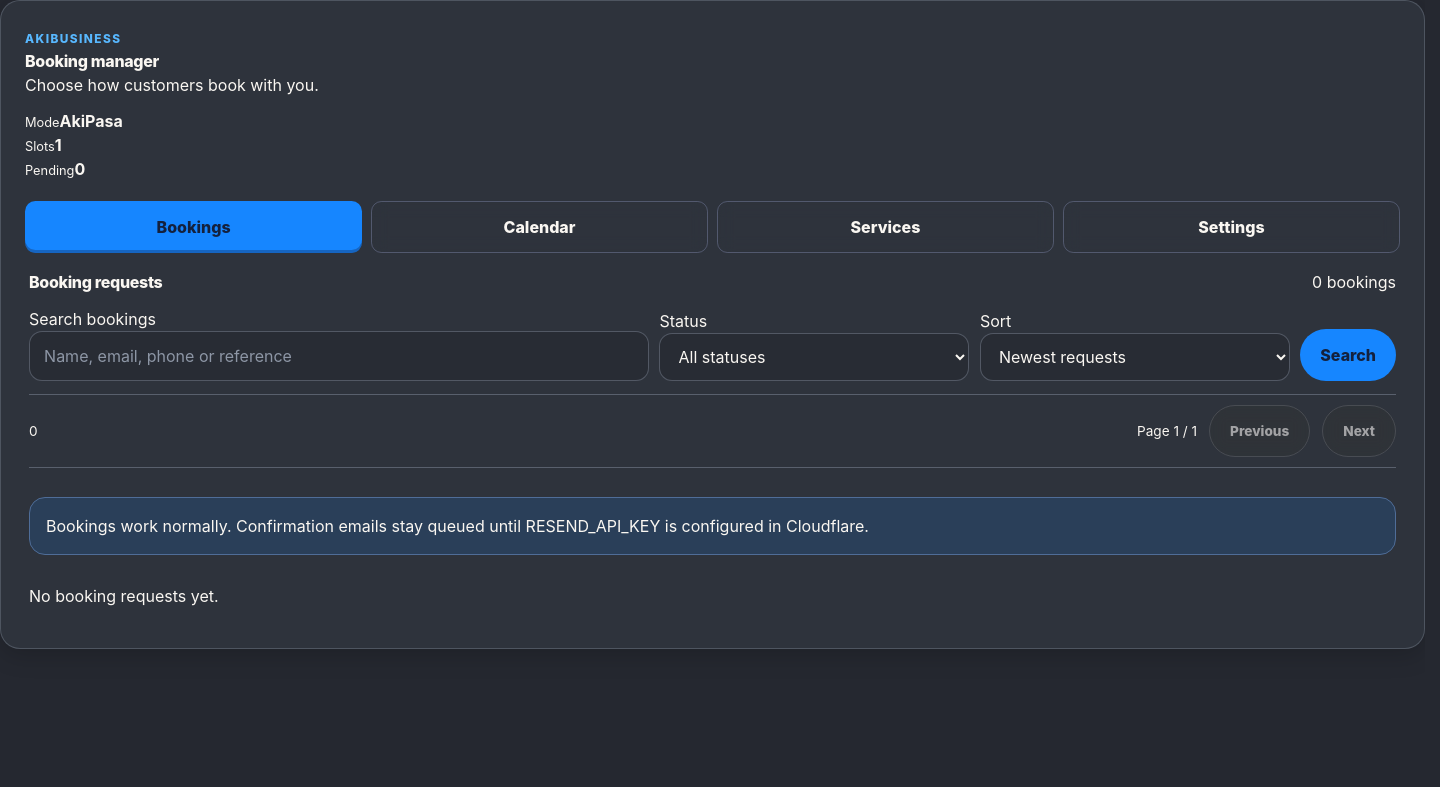
Test: AkiBusiness advanced booking manager › allows businesses to edit existing offerings
Click the button "Services" at (886, 227), box [717, 201, 1054, 253]
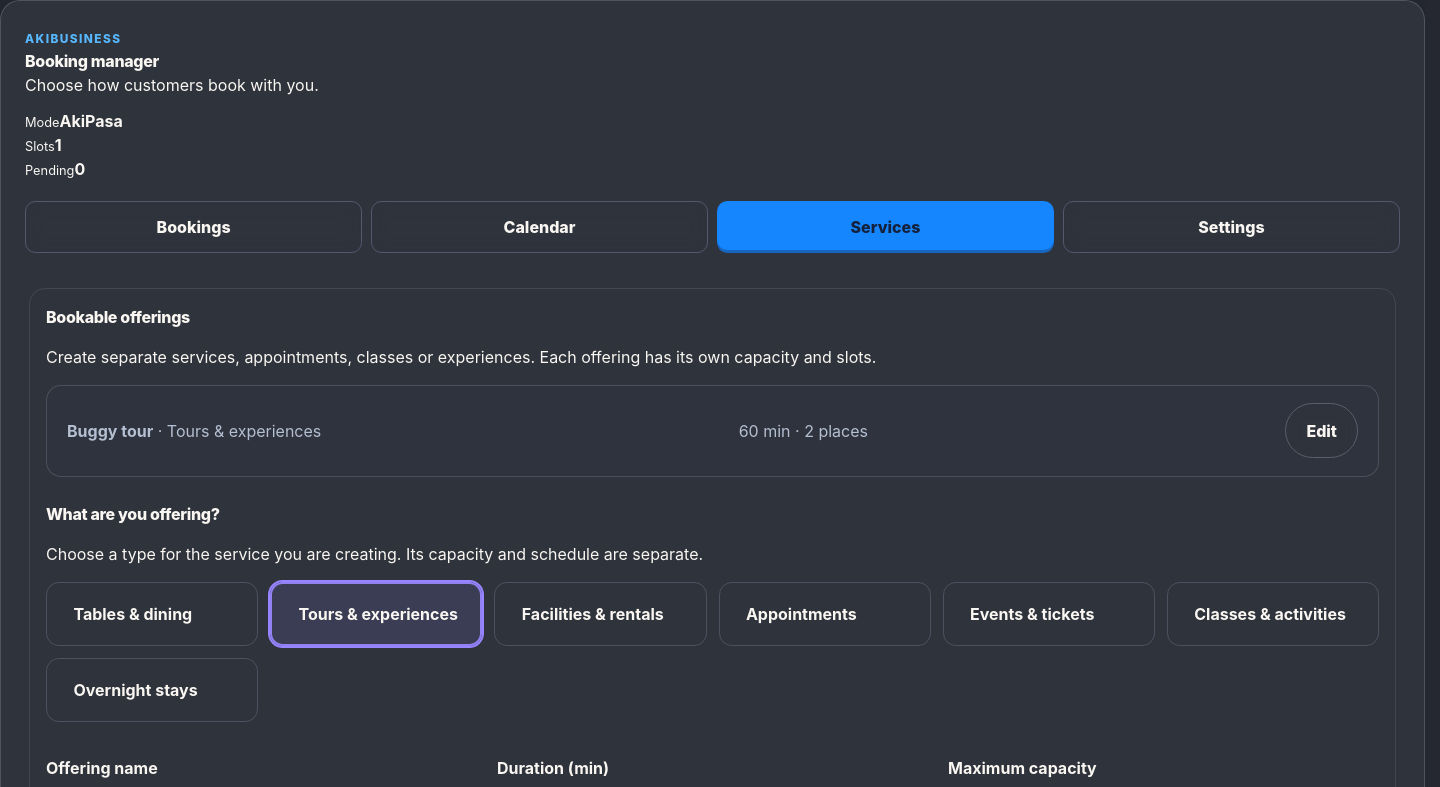
Click the button "Edit" at (1322, 431), box [1285, 403, 1358, 458]
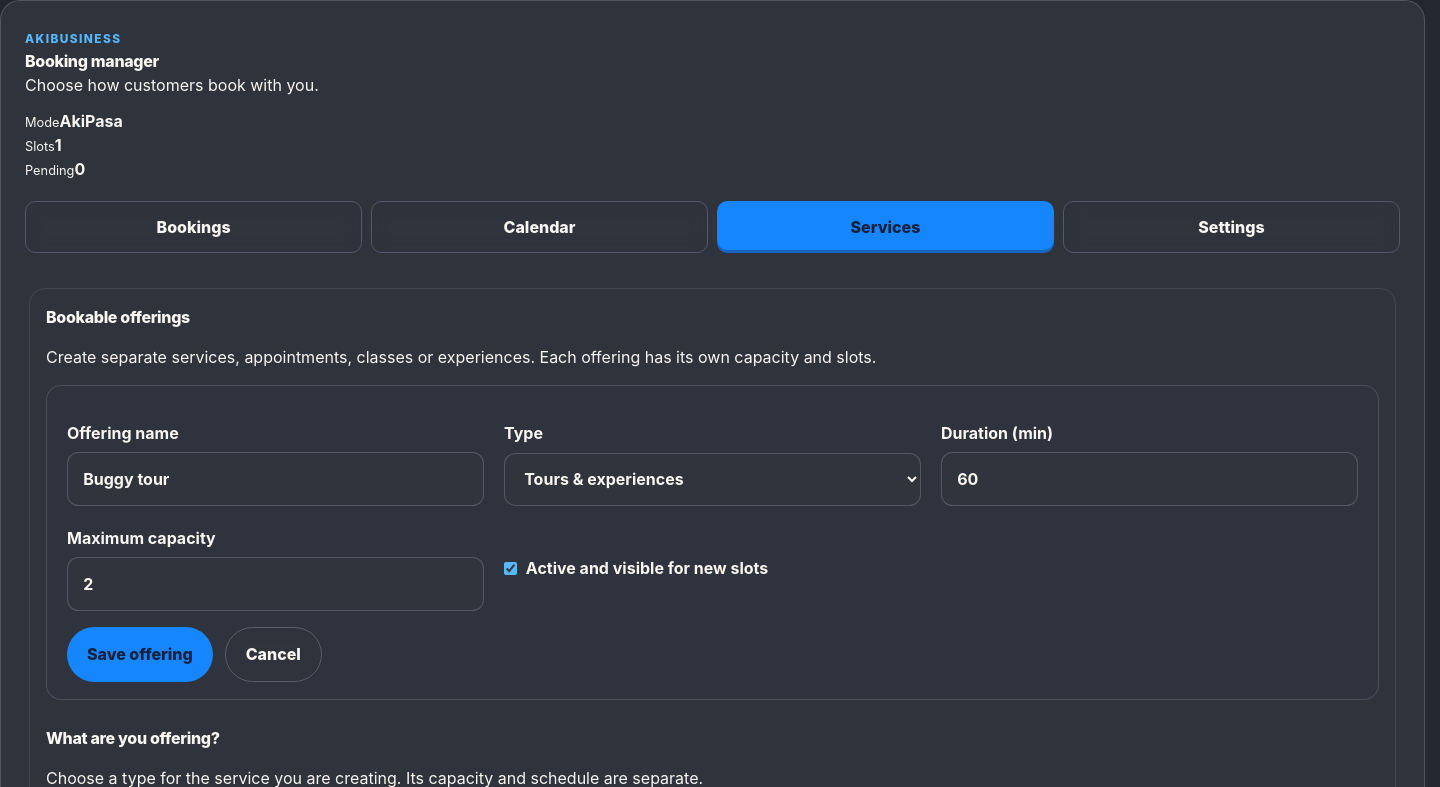
Now the form named "Save offering" is shown, box [67, 421, 1358, 682]
Now the field showing "Buggy tour" is shown, box [67, 452, 484, 506]
Now the number field labelled "Duration (min)" holds "60", box [941, 452, 1358, 506]
